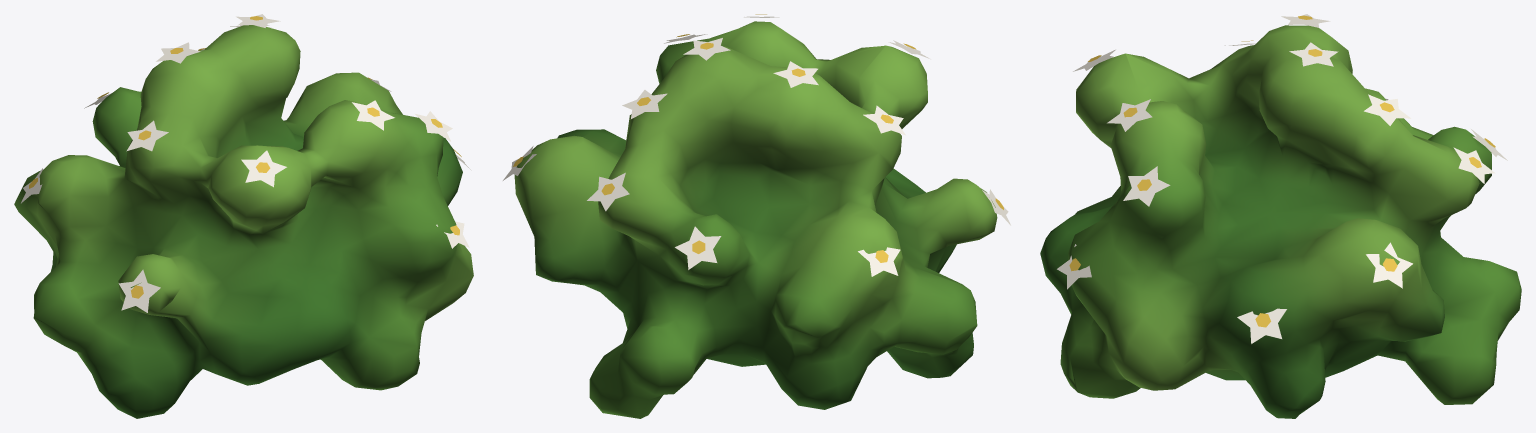
Rendered from bush_round.glb.
3 renders of one model, left to right at view 1: azimuth 30°, elevation 25°; view 2: azimuth 150°, elevation 25°; view 3: azimuth 270°, elevation 25°, orthographic. The views are drawn at different scales.
Parts seen in each view (by area): view 1: bush_round_foliage, bush_round; view 2: bush_round_foliage, bush_round; view 3: bush_round_foliage, bush_round.
Boxes of the visible parts, left/top/right/bottom form: bush_round_foliage: left=14, top=25, right=473, bottom=418; bush_round: left=21, top=14, right=471, bottom=312; bush_round_foliage: left=514, top=21, right=997, bottom=418; bush_round: left=503, top=14, right=1010, bottom=276; bush_round_foliage: left=1040, top=25, right=1521, bottom=418; bush_round: left=1057, top=14, right=1507, bottom=343.
Bounding box in the file's own units: 1.3 × 0.9156 × 1.17.
